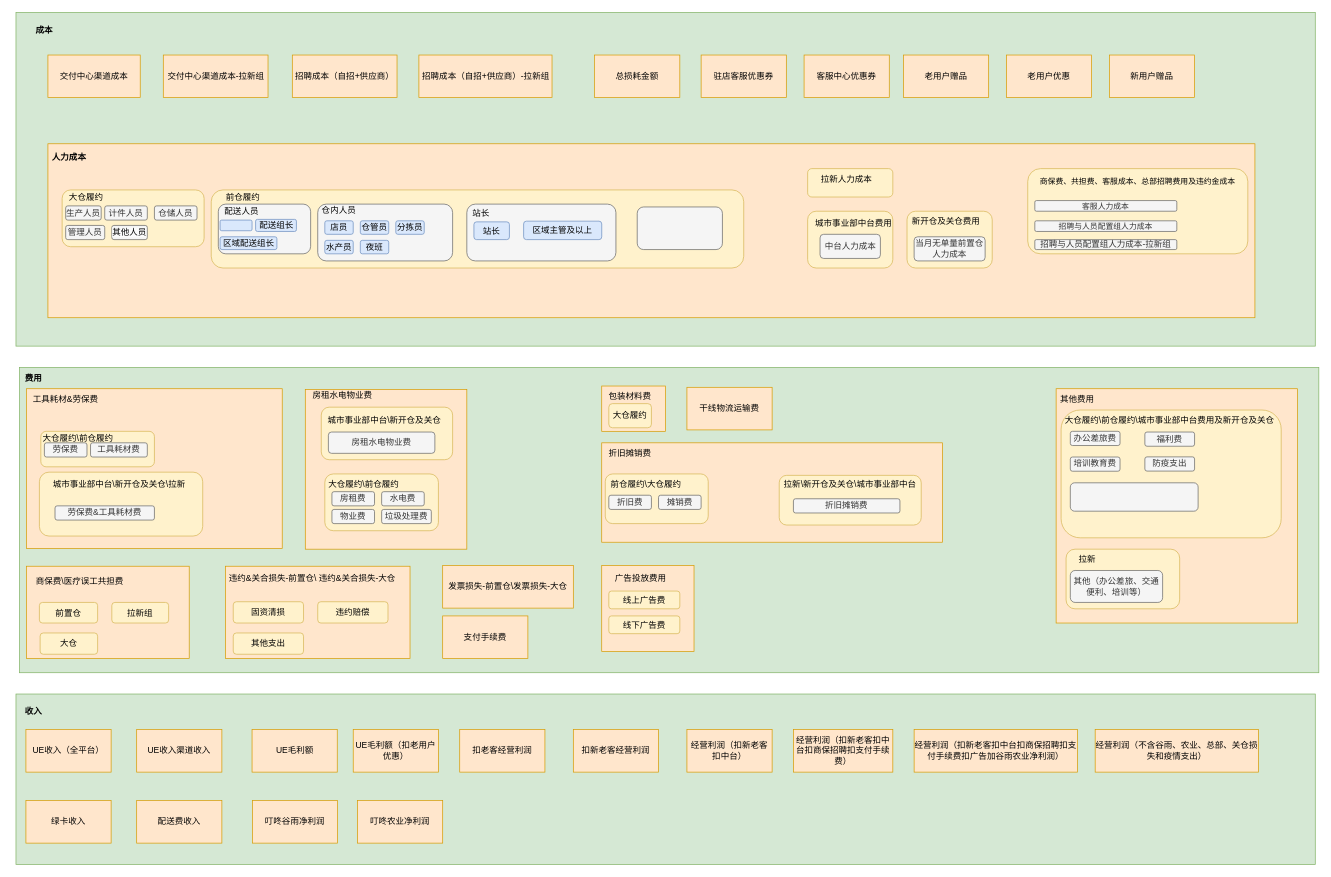
This 1331x877 diagram has some shape labels left out. Each missing label, with the box of its shape:
其他（交通、服务、业务招待、会务、招聘费等）: (1070, 482, 1198, 511)
第三方配送费: (637, 206, 722, 250)
配送员: (219, 219, 252, 231)
